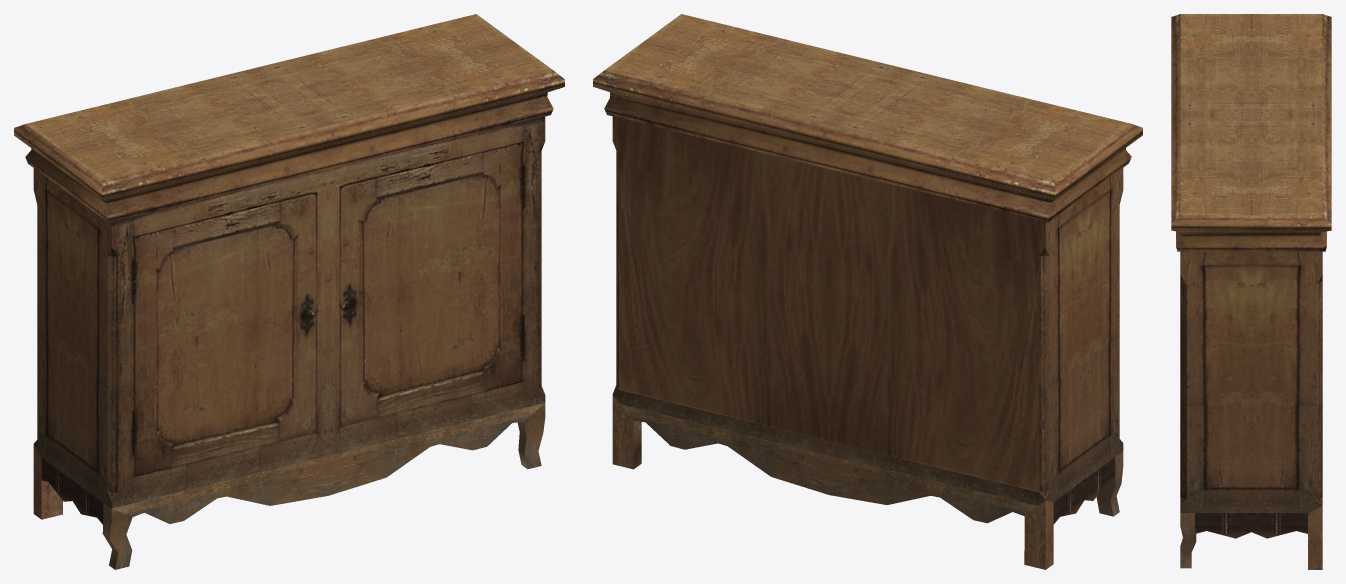
The picture shows the model from 3 angles, left to right: view 1: azimuth 30°, elevation 25°; view 2: azimuth 150°, elevation 25°; view 3: azimuth 270°, elevation 25°; orthographic projection. The views are drawn at different scales.
Parts seen in each view (by area): view 1: LV_Common_Object_A_Furniture04_SM_NWC; view 2: LV_Common_Object_A_Furniture04_SM_NWC; view 3: LV_Common_Object_A_Furniture04_SM_NWC.
Part boxes in pixels (bbox=[...]): LV_Common_Object_A_Furniture04_SM_NWC: bbox=[14, 14, 564, 569]; LV_Common_Object_A_Furniture04_SM_NWC: bbox=[593, 14, 1142, 569]; LV_Common_Object_A_Furniture04_SM_NWC: bbox=[1171, 14, 1331, 569].
Size of the model in its own units: 0.2871 by 0.2323 by 0.0943.
1 material, 1 textured.
